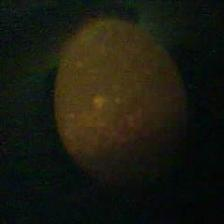fertile: (52, 16, 190, 193)
